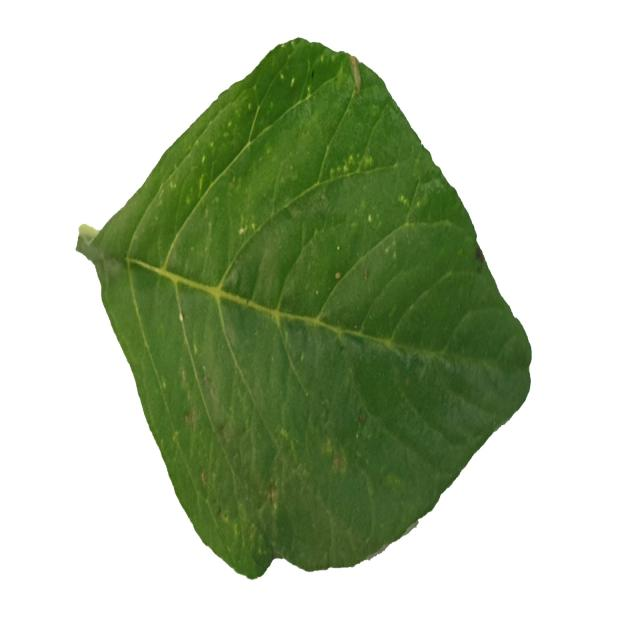Medicinal-Arive Dantu: (77, 36, 531, 585)
